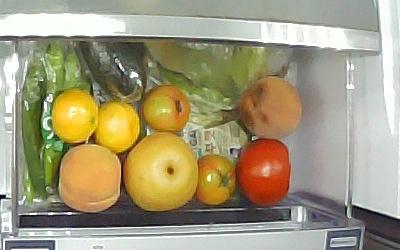peach: (56, 142, 121, 213), (238, 75, 302, 138)
pear: (121, 129, 199, 211)
tangerine: (50, 87, 99, 143), (92, 99, 140, 153)
tomato: (234, 137, 291, 207), (139, 83, 190, 132), (194, 152, 236, 205)
